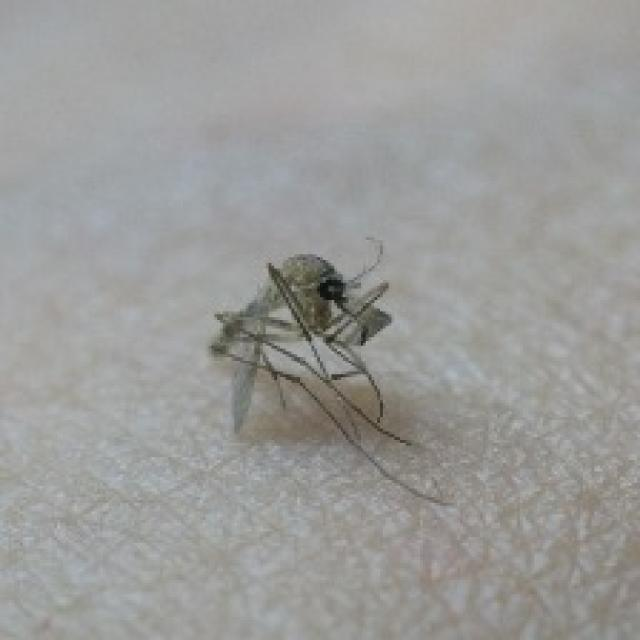culex: (206, 234, 454, 506)
